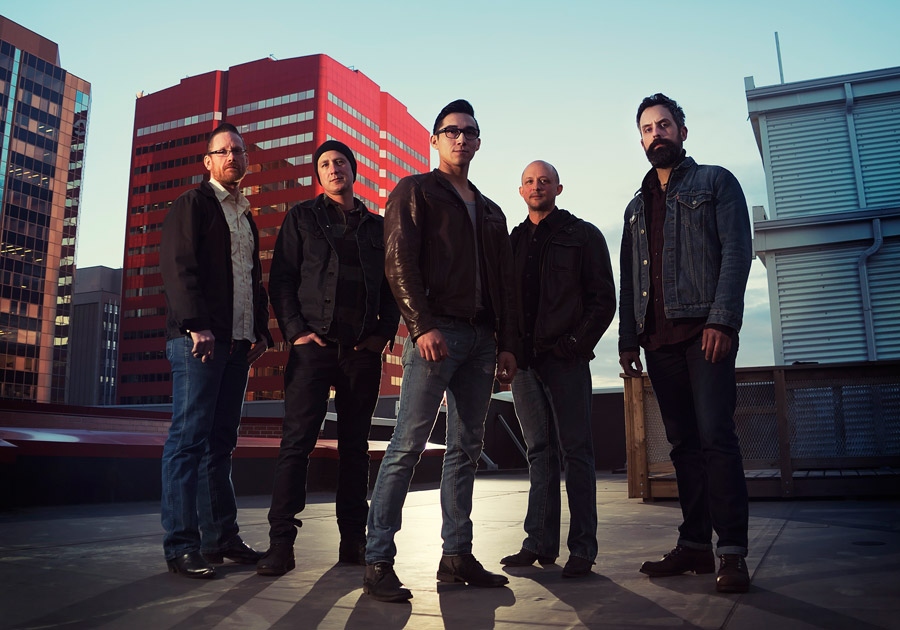male: (366, 101, 521, 605), (618, 93, 757, 596), (256, 141, 391, 575), (157, 122, 276, 581), (497, 159, 618, 579)
